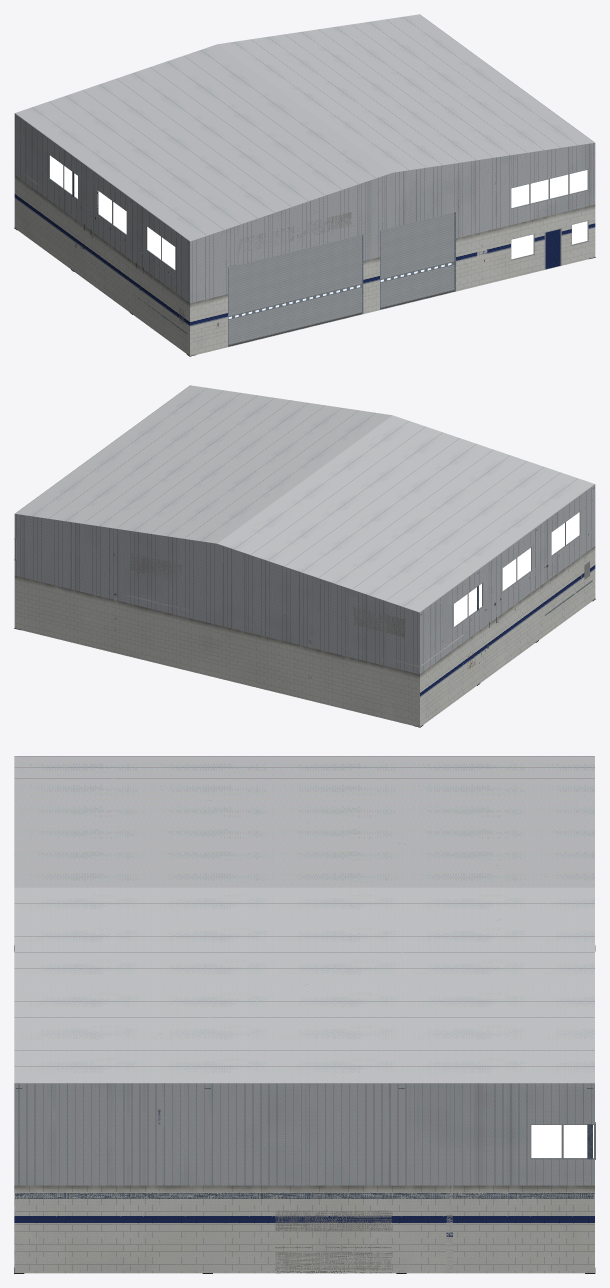
Rendered from shell_workshop.glb.
3 views of the same model, one above another, from view 1: azimuth 30°, elevation 25°; view 2: azimuth 150°, elevation 25°; view 3: azimuth 270°, elevation 25° (orthographic). The views are drawn at different scales.
Visible parts, largest first — view 1: Roof_L, Roof_R, Wall_Front_Liner, Wall_Left_Block, Wall_Front_Block, Wall_Left_Liner, St_DoorA_SlatsHigh, St_DoorB_SlatsHigh, St_DoorA_SlatsLow, St_DoorB_SlatsLow, Win_Front_2_Pane, Win_Left_1_Pane (+5 smaller); view 2: Roof_L, Roof_R, Wall_Back_Liner, Wall_Back_Block, Wall_Left_Block, Wall_Left_Liner, Sv_Spons_BackL_Back, Win_Left_1_Pane, Win_Left_0_Pane, Win_Left_2_Pane; view 3: Roof_R, Roof_L, Wall_Right_Liner, Wall_Right_Block, St_Mezz_Ledger, Rm_Wall_Carcass, Win_Right_0_Pane, Rm_Kitchen_Carcass.
Part boxes in pixels (<box>): Roof_L: <box>15,44,392,241</box>; Roof_R: <box>218,14,594,172</box>; Wall_Front_Liner: <box>190,143,595,303</box>; Wall_Left_Block: <box>14,175,189,355</box>; Wall_Front_Block: <box>190,204,595,355</box>; Wall_Left_Liner: <box>14,113,189,302</box>; St_DoorA_SlatsHigh: <box>228,235,361,316</box>; St_DoorB_SlatsHigh: <box>380,212,454,278</box>; St_DoorA_SlatsLow: <box>228,287,361,344</box>; St_DoorB_SlatsLow: <box>380,265,454,307</box>; Win_Front_2_Pane: <box>511,170,587,207</box>; Win_Left_1_Pane: <box>98,191,126,233</box>; Roof_L: <box>217,415,594,612</box>; Roof_R: <box>15,385,391,543</box>; Wall_Back_Liner: <box>14,514,419,674</box>; Wall_Back_Block: <box>14,575,419,726</box>; Wall_Left_Block: <box>420,546,595,726</box>; Wall_Left_Liner: <box>420,484,595,673</box>; Sv_Spons_BackL_Back: <box>354,607,404,636</box>; Win_Left_1_Pane: <box>502,548,530,590</box>; Win_Left_0_Pane: <box>551,512,579,554</box>; Win_Left_2_Pane: <box>454,583,481,626</box>; Roof_R: <box>14,887,594,1083</box>; Roof_L: <box>14,756,594,887</box>; Wall_Right_Liner: <box>14,1083,594,1185</box>; Wall_Right_Block: <box>14,1185,594,1273</box>; St_Mezz_Ledger: <box>15,1193,594,1198</box>; Rm_Wall_Carcass: <box>275,1210,391,1230</box>; Win_Right_0_Pane: <box>531,1125,593,1157</box>; Rm_Kitchen_Carcass: <box>275,1252,391,1270</box>.
Bounding box in the file's own units: 24.08 × 7.65 × 18.04.
Materials: 274 (258 with a texture image).
